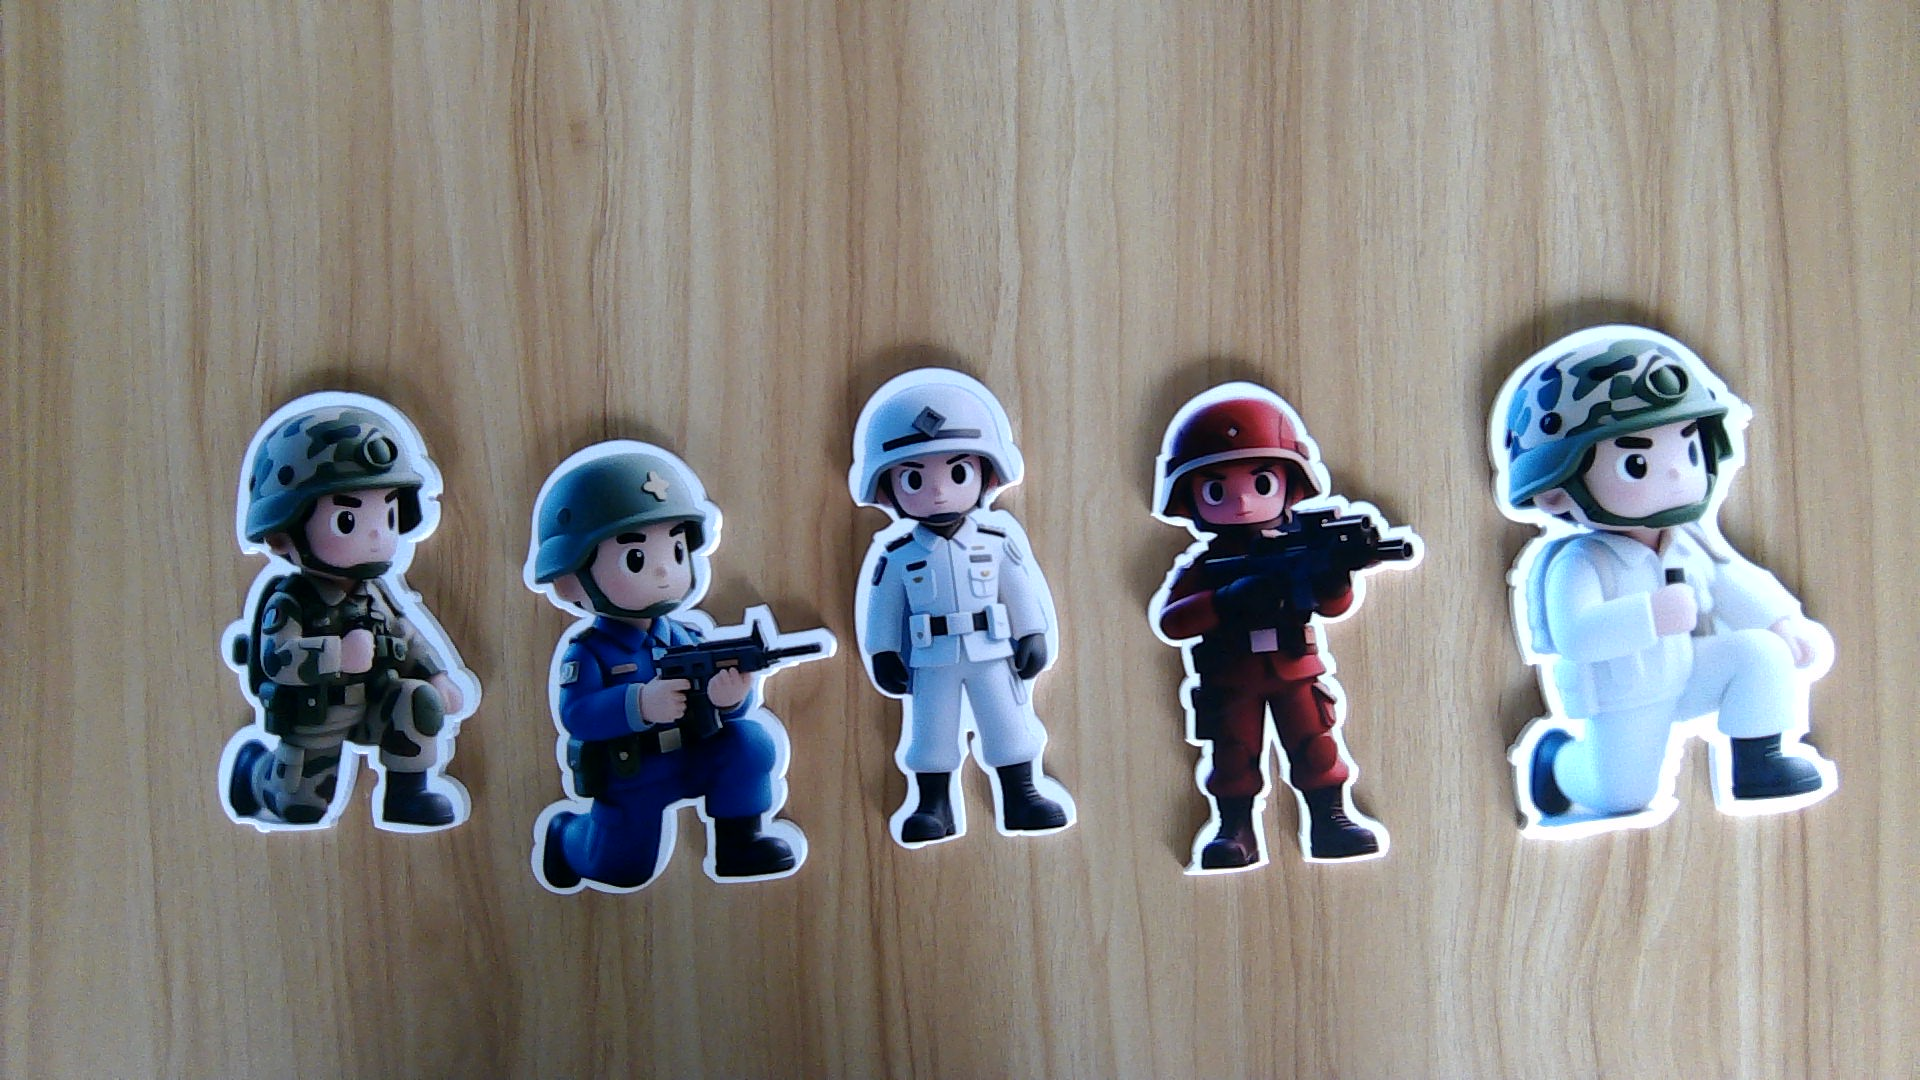人质: (1484, 537, 1855, 840), (851, 525, 1076, 852)
友军: (212, 585, 479, 843)
敌人1: (1145, 537, 1422, 876)
敌人2: (530, 624, 829, 891)
